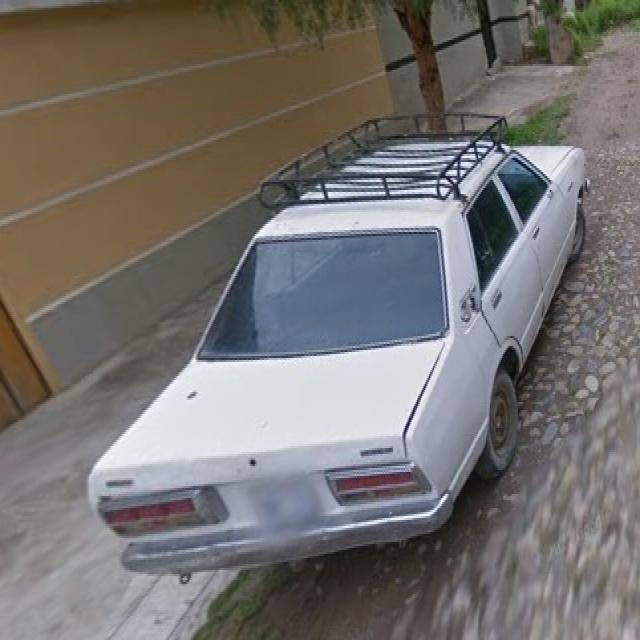Car: (89, 128, 578, 590)
